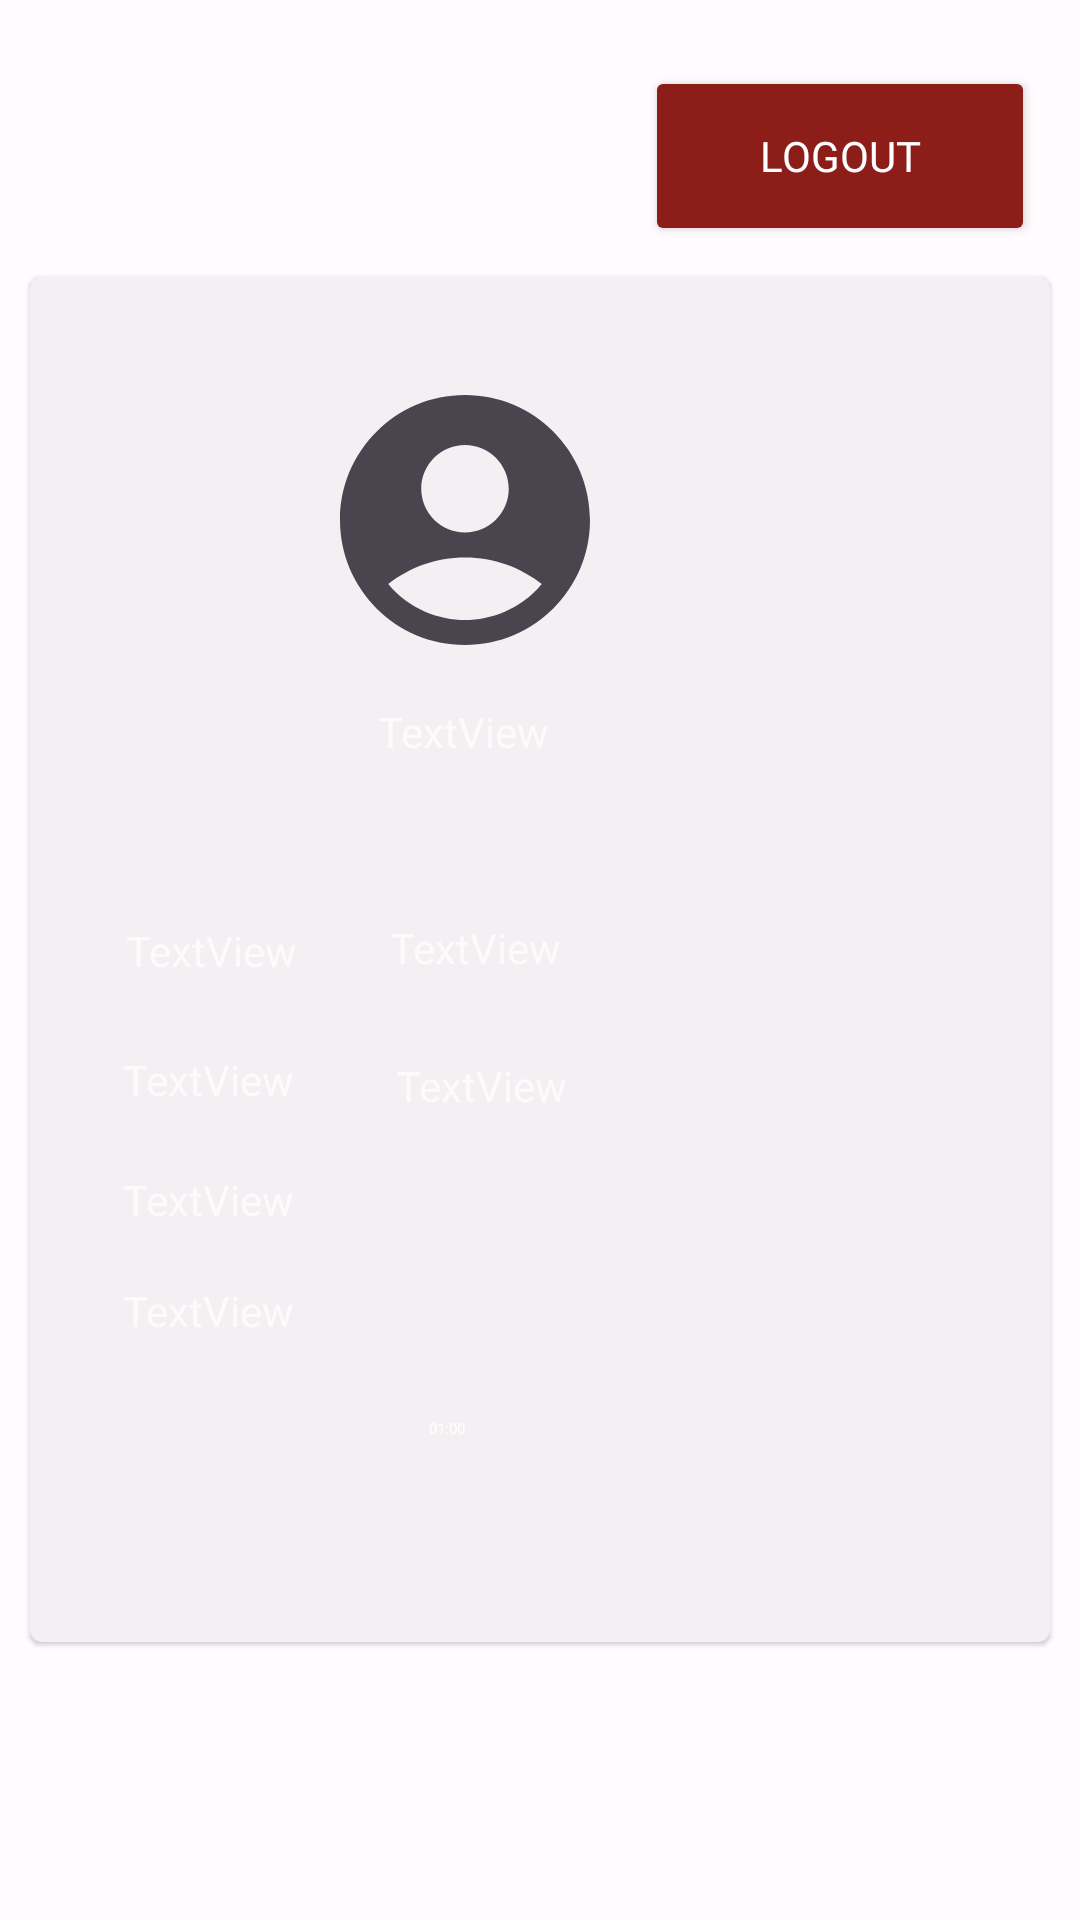

Icon bounding boxes for this 1080px x 1920px phone screenshot, format (x1, y1, x2, y2):
account circle: (340, 395, 590, 645)
